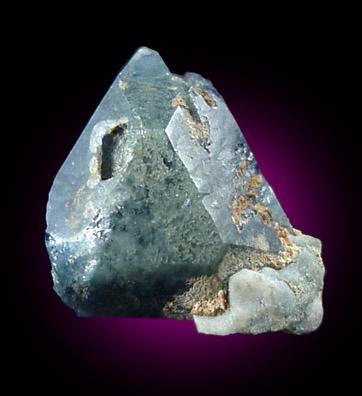benitoite: (46, 47, 293, 318)
